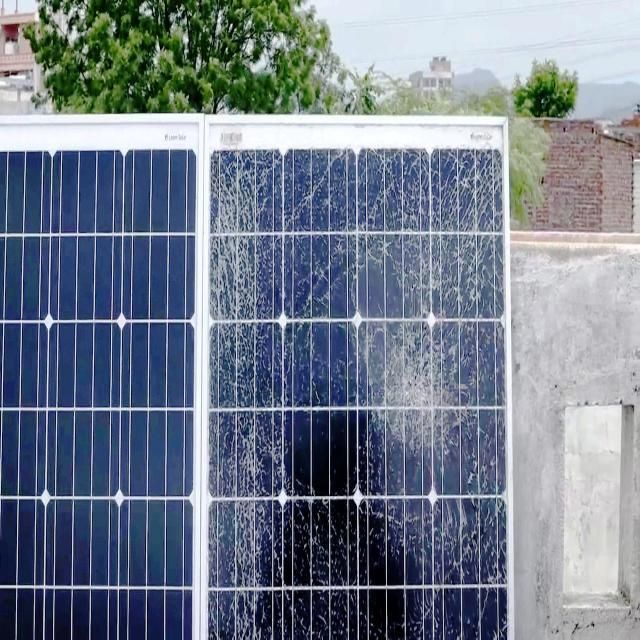faulty: (210, 128, 508, 636)
no faulty: (1, 137, 204, 640)
